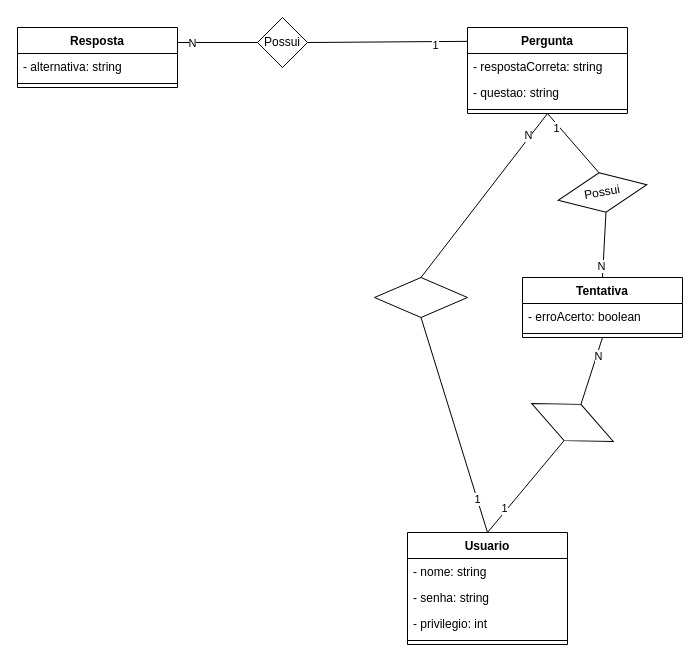
This 700x662 diagram has some shape labels left out. Here are the shapes that lost their labels. From the top down, the centre of each, then its label:
point (421, 297): Cria
point (572, 422): Faz
